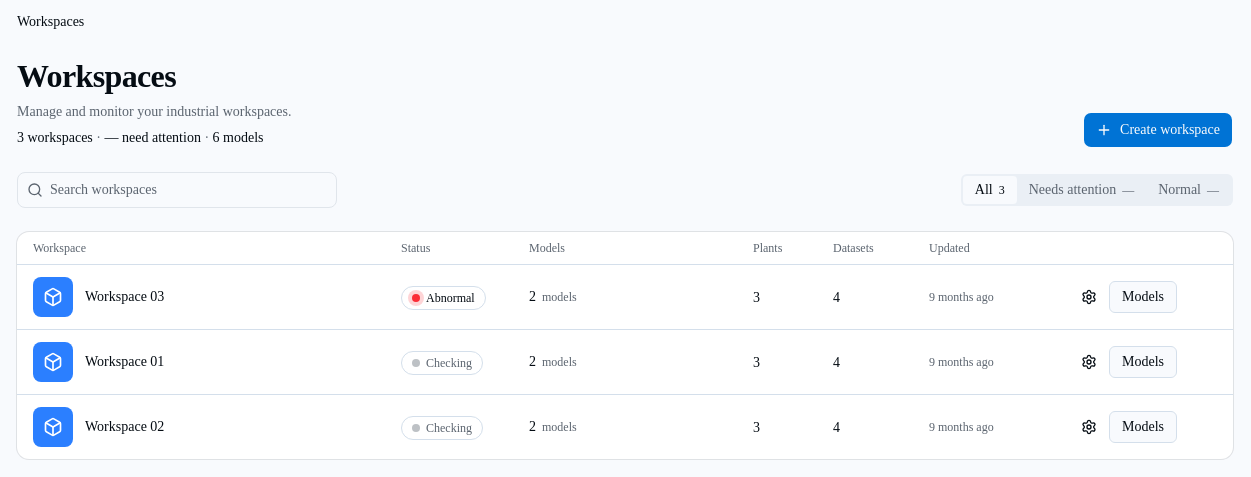
Test: WorkspacesPage › keeps unknown workspaces out of the Normal filter, and leads with alerting nodes
This screenshot has width=1251, height=477.
Click the radio button labelled "Normal—".
click(1189, 190)  # box [1146,176,1231,204]
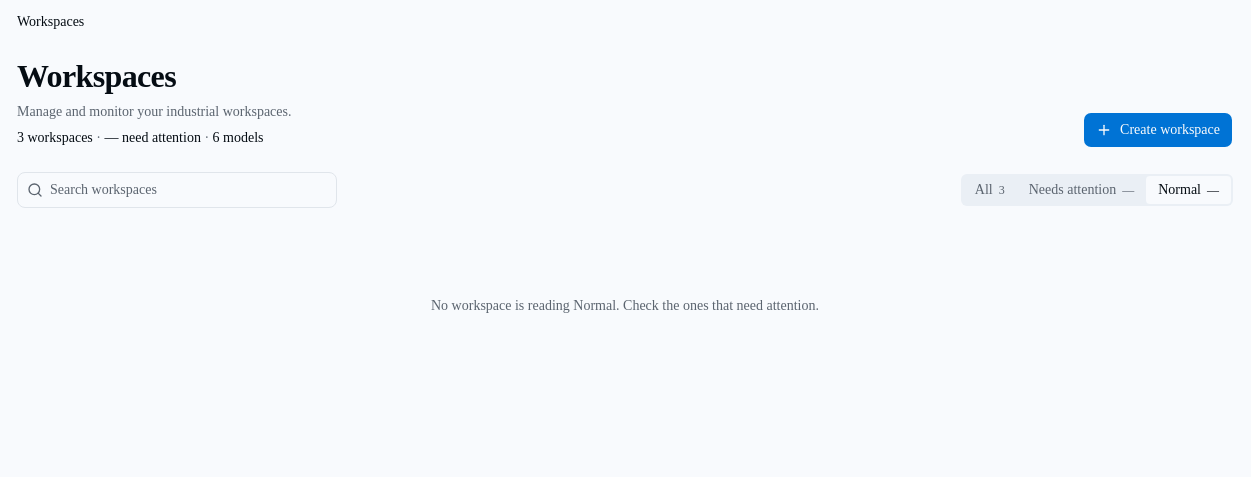
Check: the message shows "No workspace is reading Normal", box [431,298,819,313]
